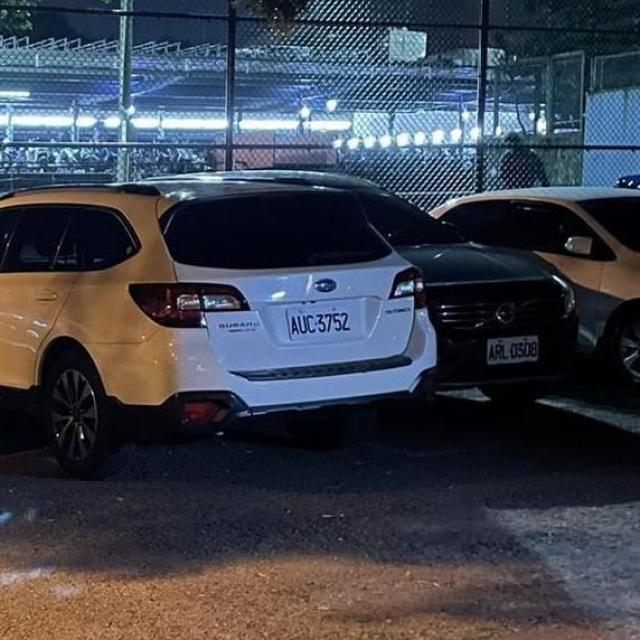W: (278, 294, 358, 342), (479, 326, 546, 372)
